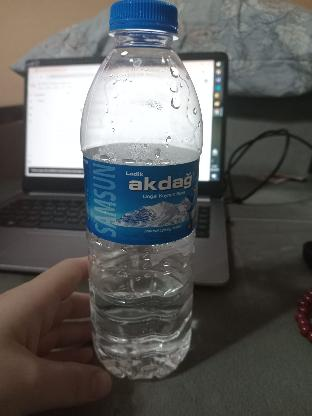Plastic Bottle: (76, 0, 209, 386)
